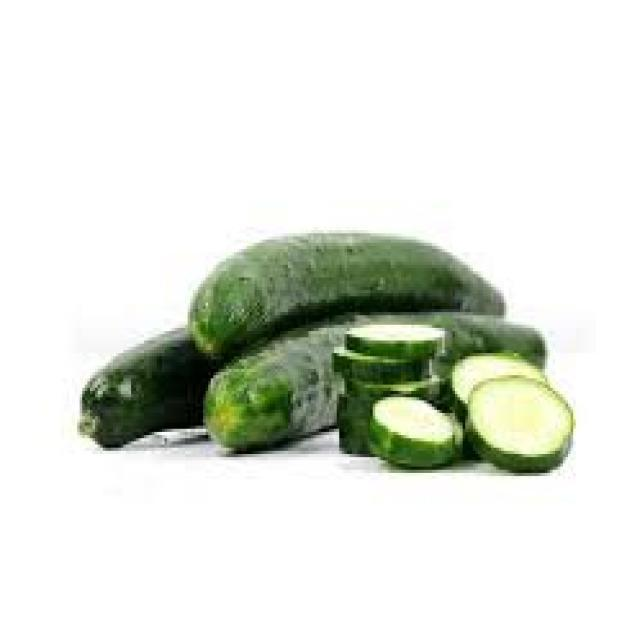cucumber: (79, 232, 575, 473)
